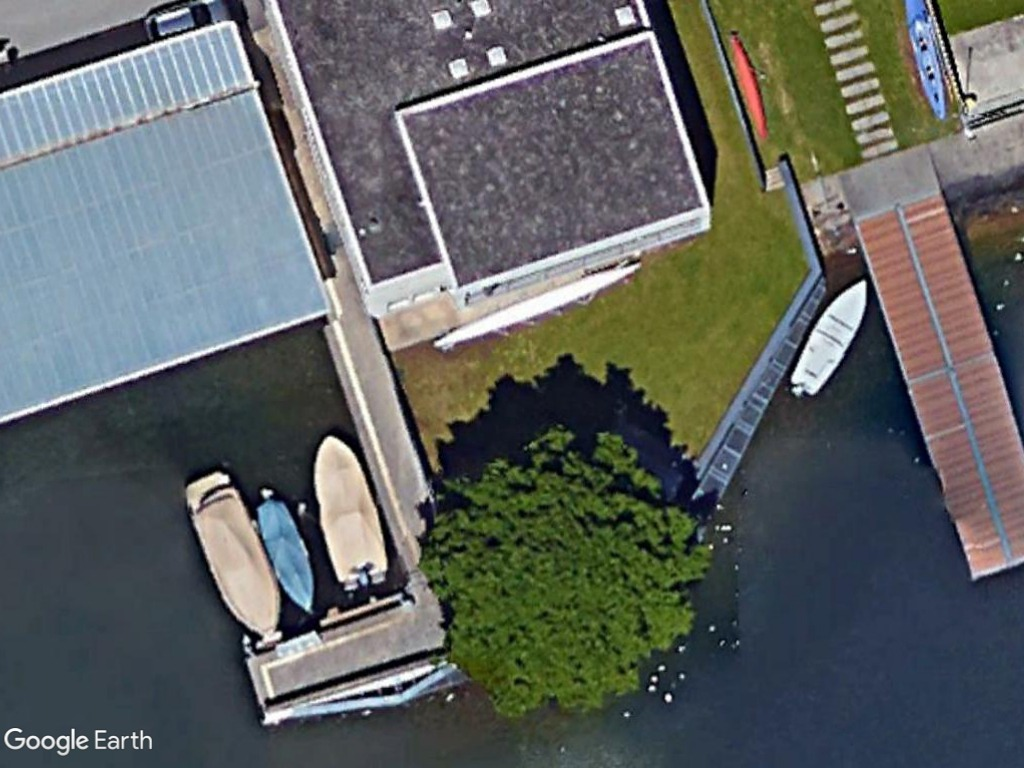boat: (178, 467, 284, 642), (310, 429, 394, 594), (780, 270, 869, 406), (253, 490, 320, 619)
